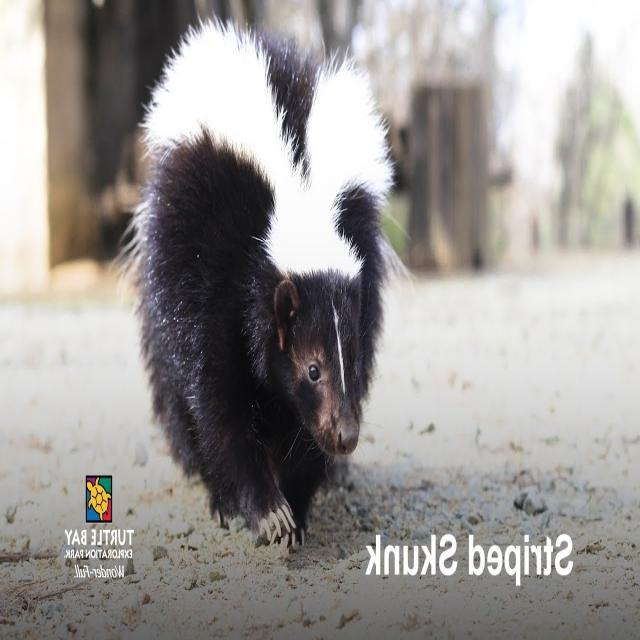Skunk: (134, 0, 395, 556)
